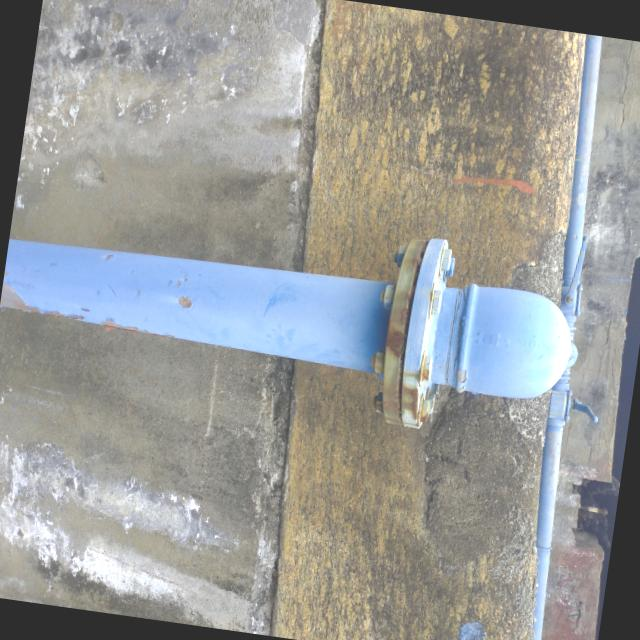gas: (0, 240, 569, 399), (535, 37, 601, 550)
